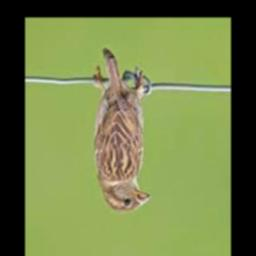Sparrow: (95, 49, 151, 214)
